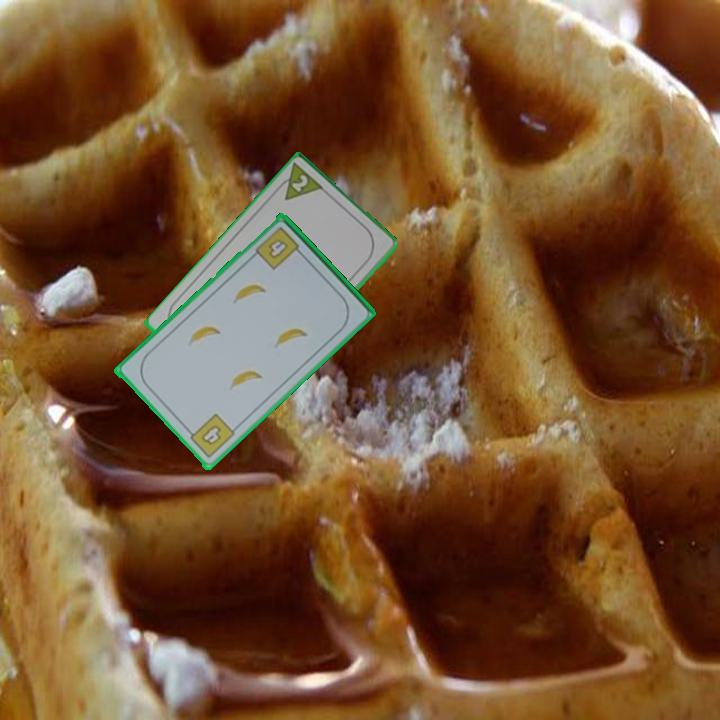2p: (288, 171, 311, 196)
4b: (251, 223, 307, 273), (183, 411, 238, 461)
